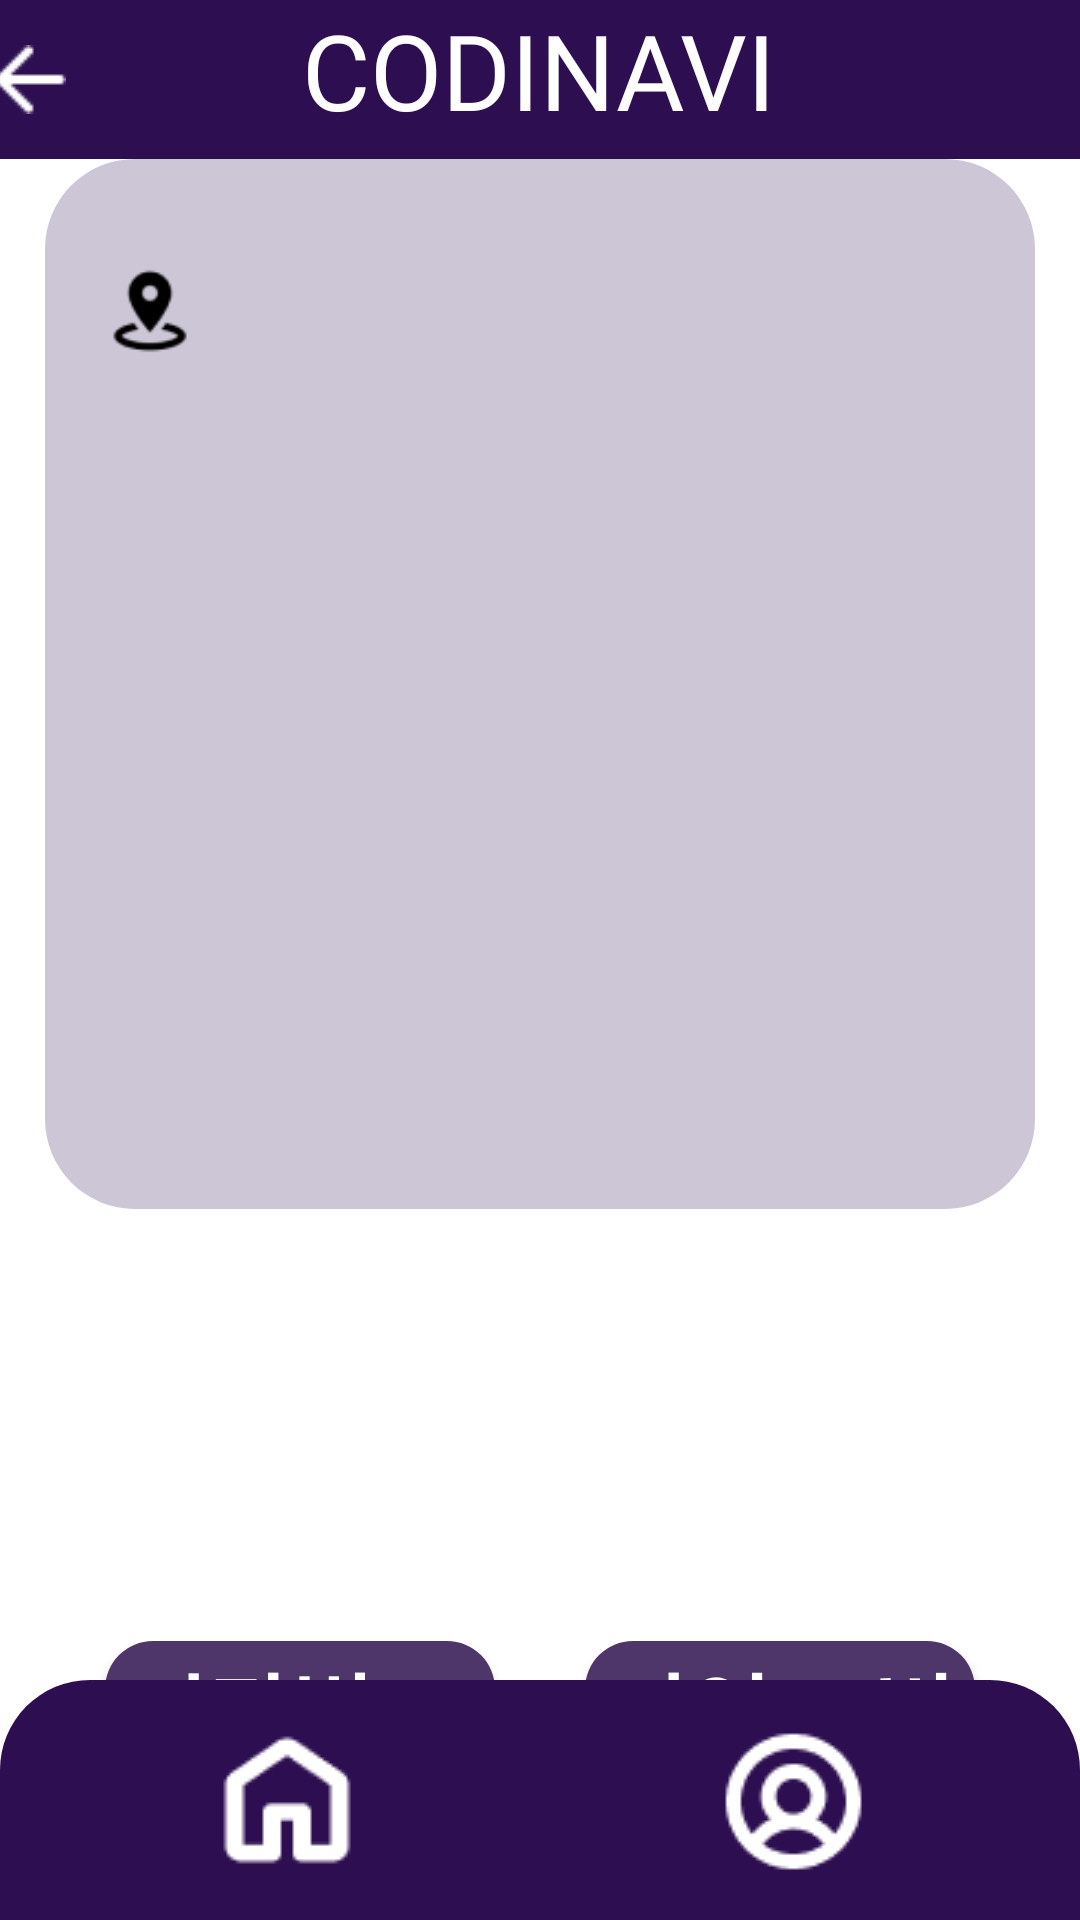

Point at icon controls on the screen. Image size 1080w x 1920h, points as (x,y).
place marker: (150,311)
